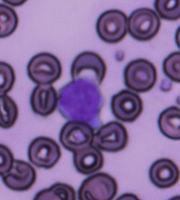L: (57, 75, 104, 126)
